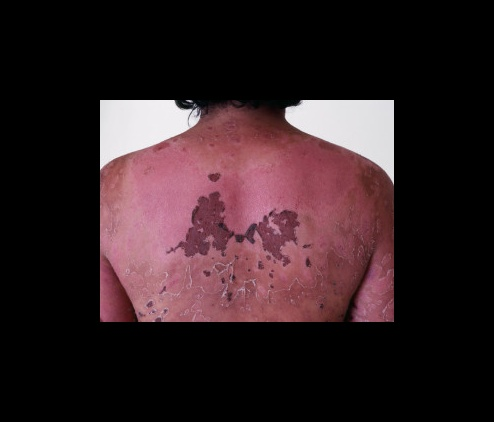SJS-TEN: (95, 93, 401, 336)
